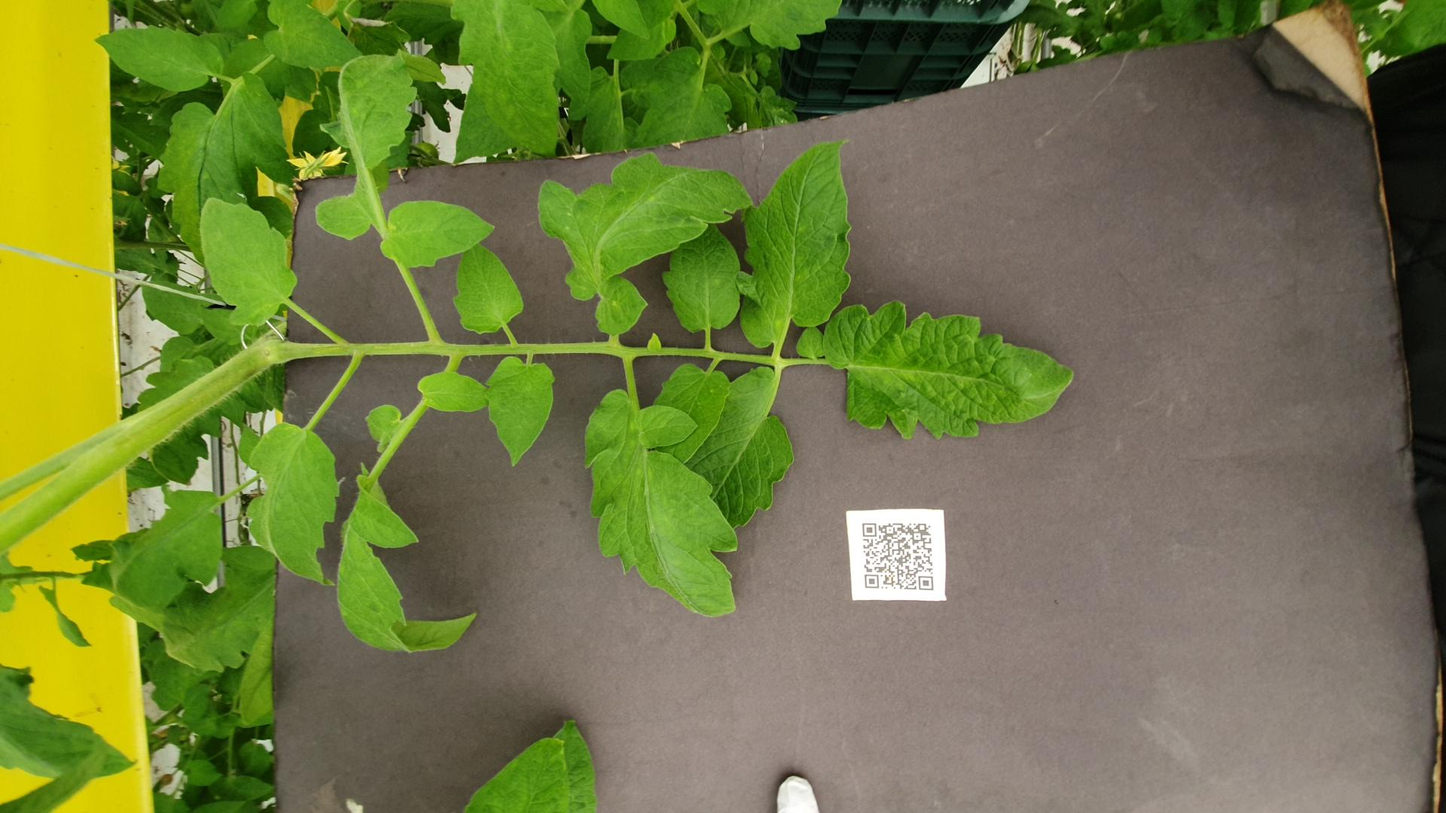Healthy: (845, 301, 1180, 424), (319, 326, 755, 418), (651, 461, 905, 606), (820, 413, 1207, 482), (278, 187, 597, 270), (975, 91, 1322, 166), (1167, 253, 1446, 316), (506, 389, 789, 448), (57, 0, 267, 79), (396, 138, 698, 192), (865, 110, 1103, 170), (1278, 51, 1398, 128), (966, 213, 1094, 283), (861, 371, 1044, 419), (607, 272, 810, 315), (849, 250, 1012, 298), (1323, 146, 1446, 205), (710, 233, 786, 277)
